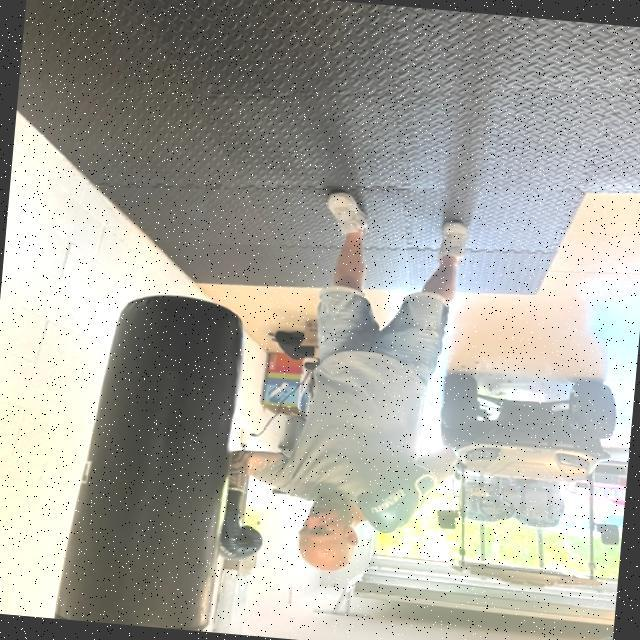uppercut: (193, 420, 454, 605)
